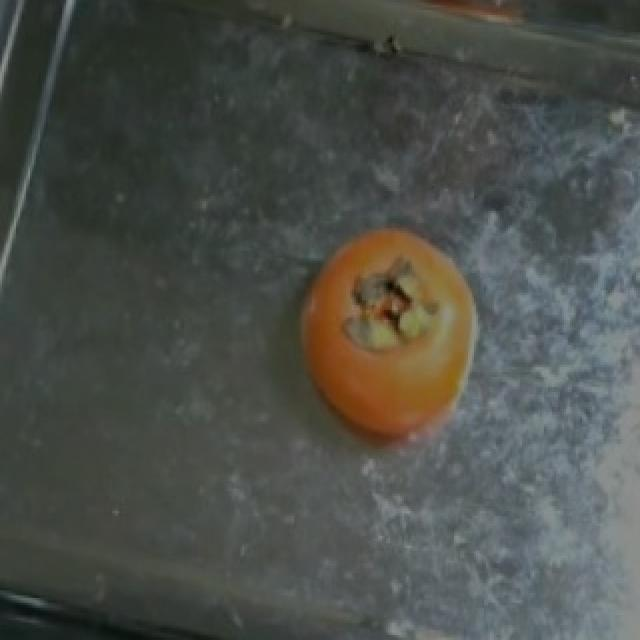Fruit: (274, 211, 502, 476)
